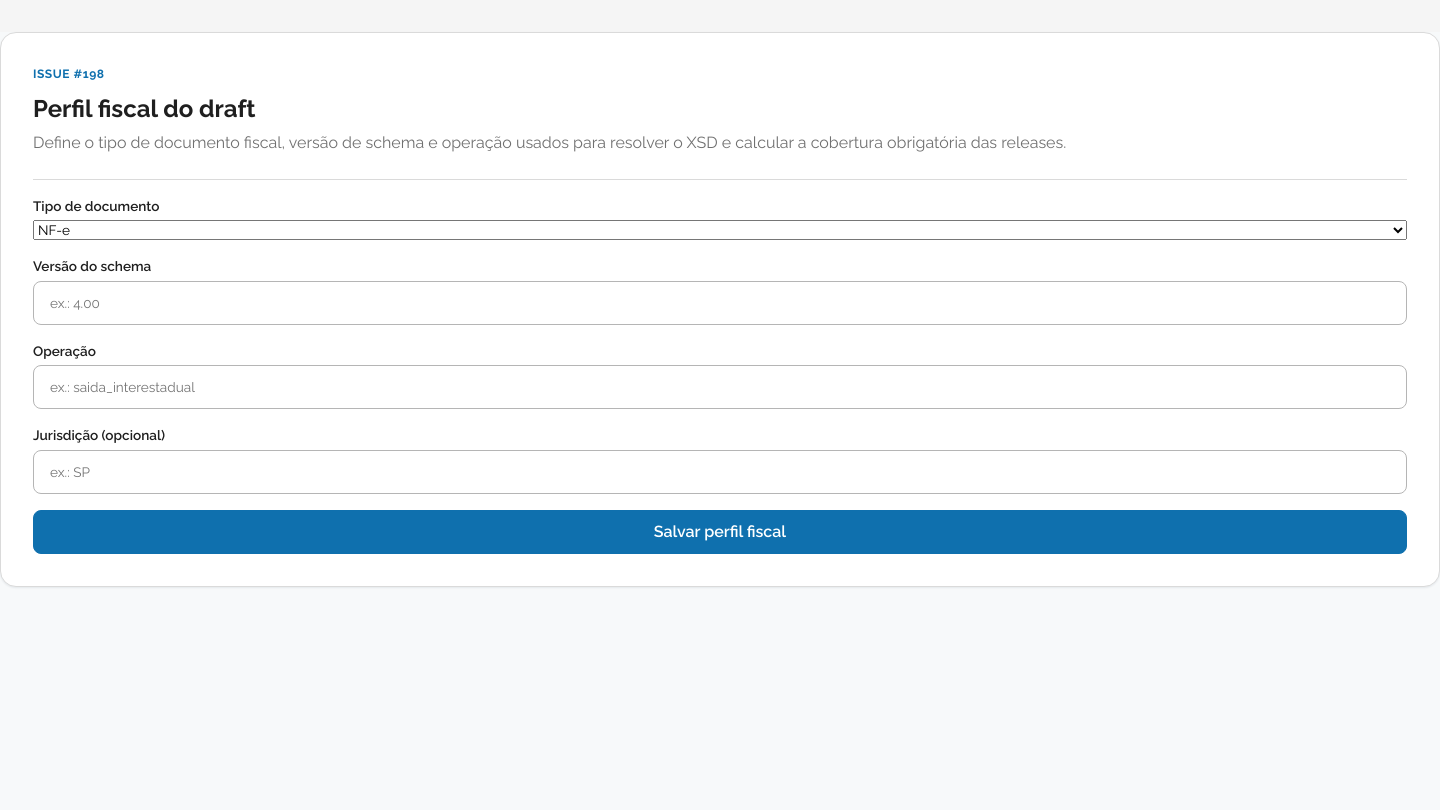
Test: MappingFiscalProfilePanel › mostra mensagem específica quando o draft não é encontrado
The width and height of the screenshot is (1440, 810).
Type "4.00" into the field labelled "Versão do schema". click: [720, 303]
box: [33,281,1407,325]
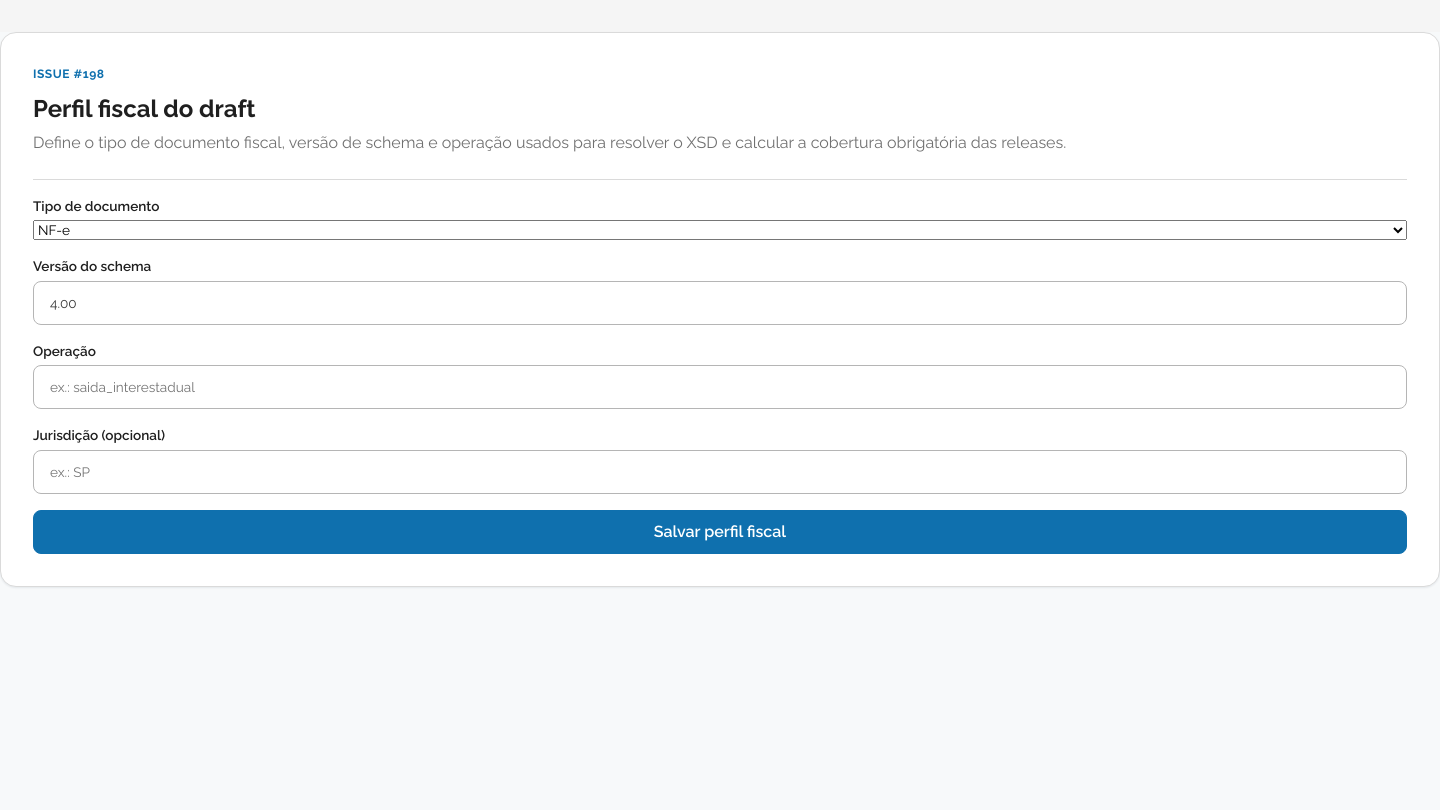
Type "saida" into the field labelled "Operação". click: [720, 387]
box: [33,365,1407,409]
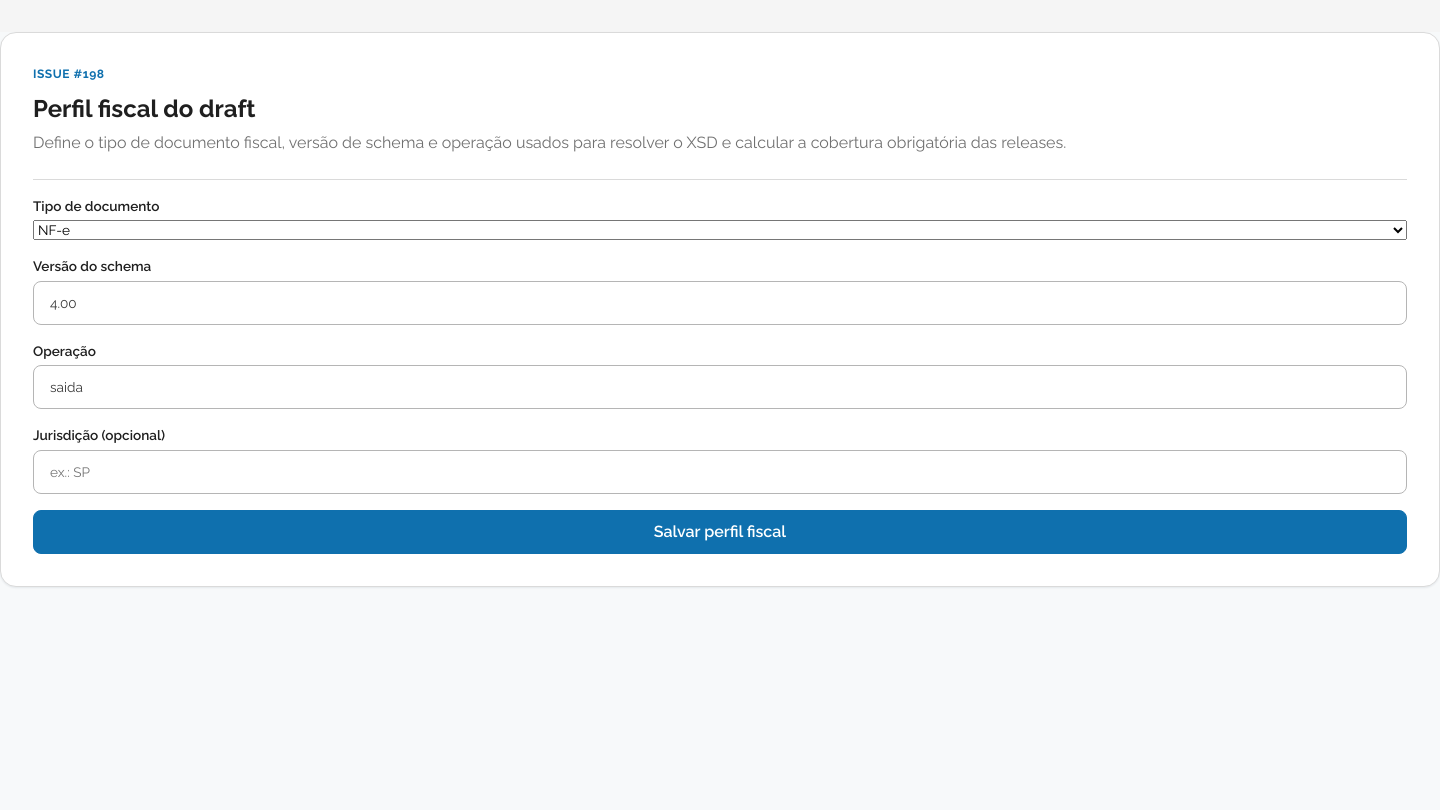
Click the button "Salvar perfil fiscal". click: [720, 532]
box: [33,510,1407,554]
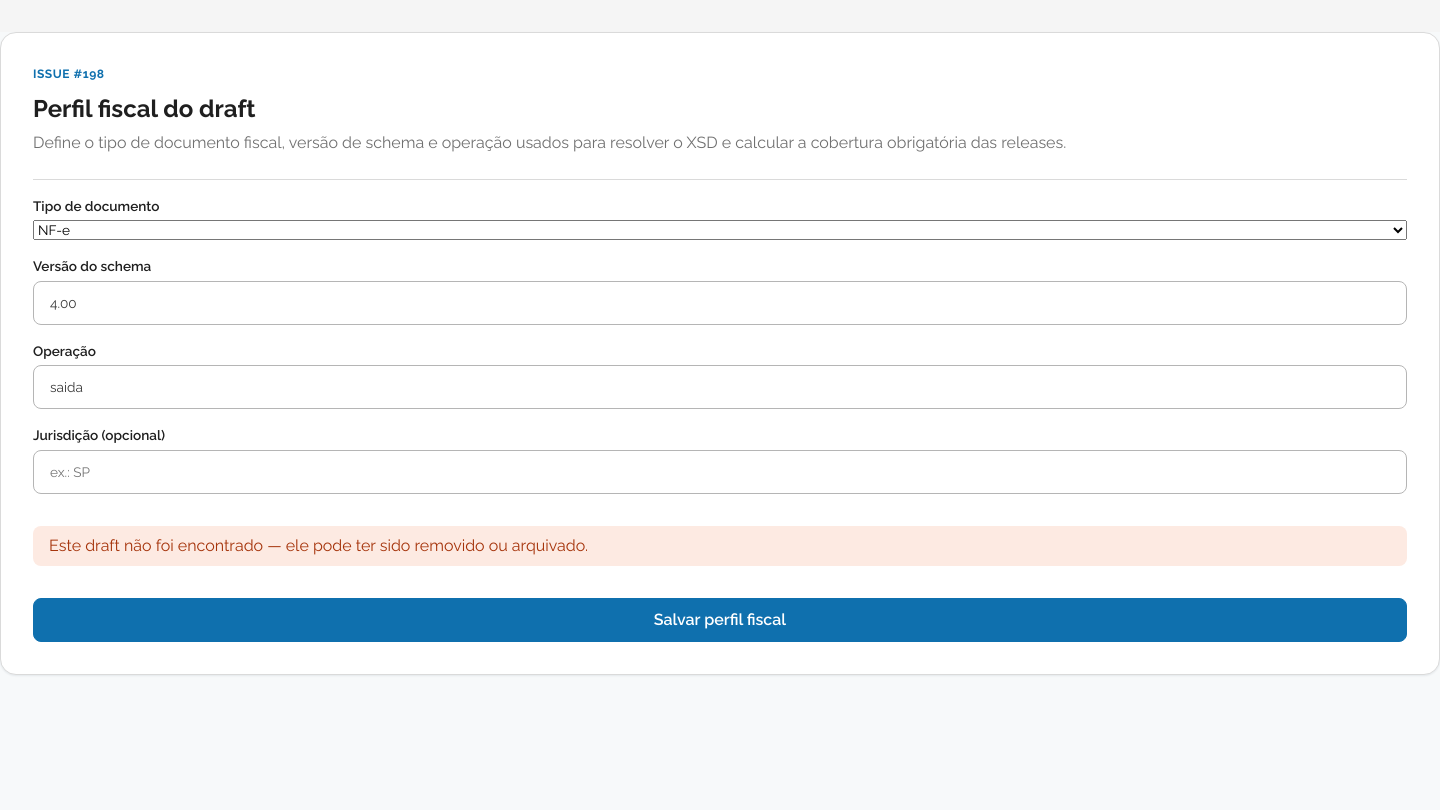
Expected: the text "Este draft não foi encontrado — ele pode ter sido removido ou arquivado." is shown, [33,526,1407,566]
